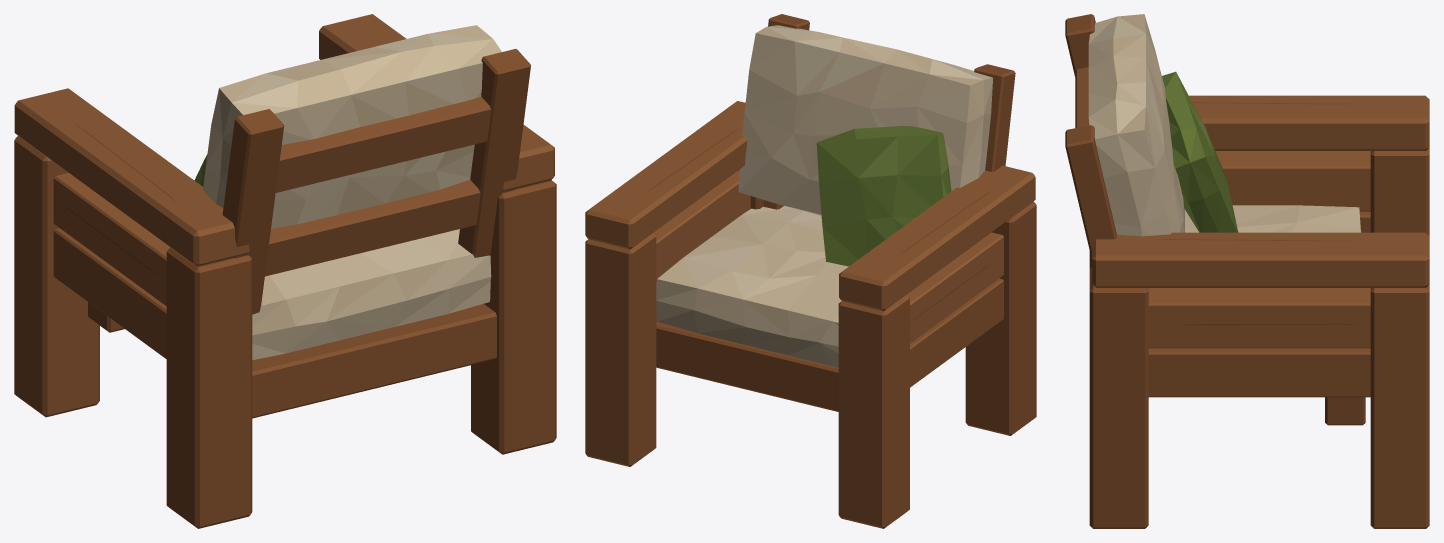
Rendered from seat_reading-chair_v2.glb.
3 renders of one model, left to right at view 1: azimuth 30°, elevation 25°; view 2: azimuth 150°, elevation 25°; view 3: azimuth 270°, elevation 25°, orthographic. The views are drawn at different scales.
Visible parts, largest first — view 1: body; view 2: body; view 3: body.
Boxes of the visible parts, box(x1,y1,x2,y2) form: body: box(14, 14, 556, 528); body: box(585, 14, 1036, 528); body: box(1065, 14, 1429, 528).
Size of the model in its own units: 0.85 by 0.9314 by 0.8037.
